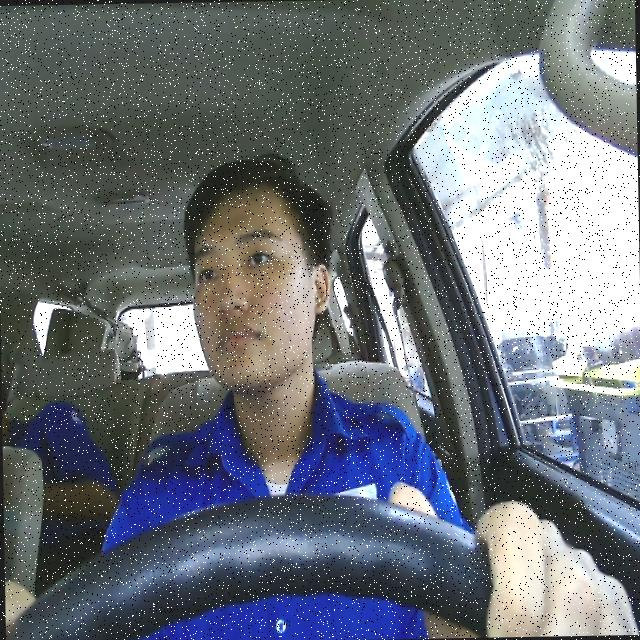seeing_left: (186, 180, 334, 394)
